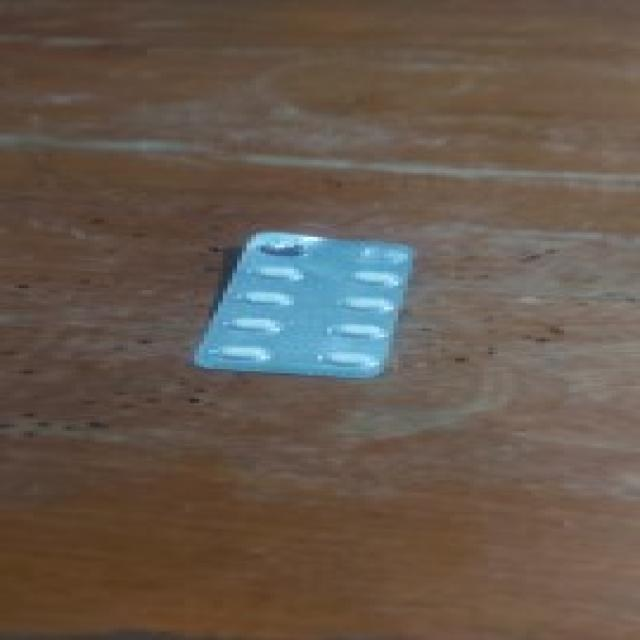Cacat: (194, 230, 422, 378)
Kemasan: (254, 236, 320, 263)
